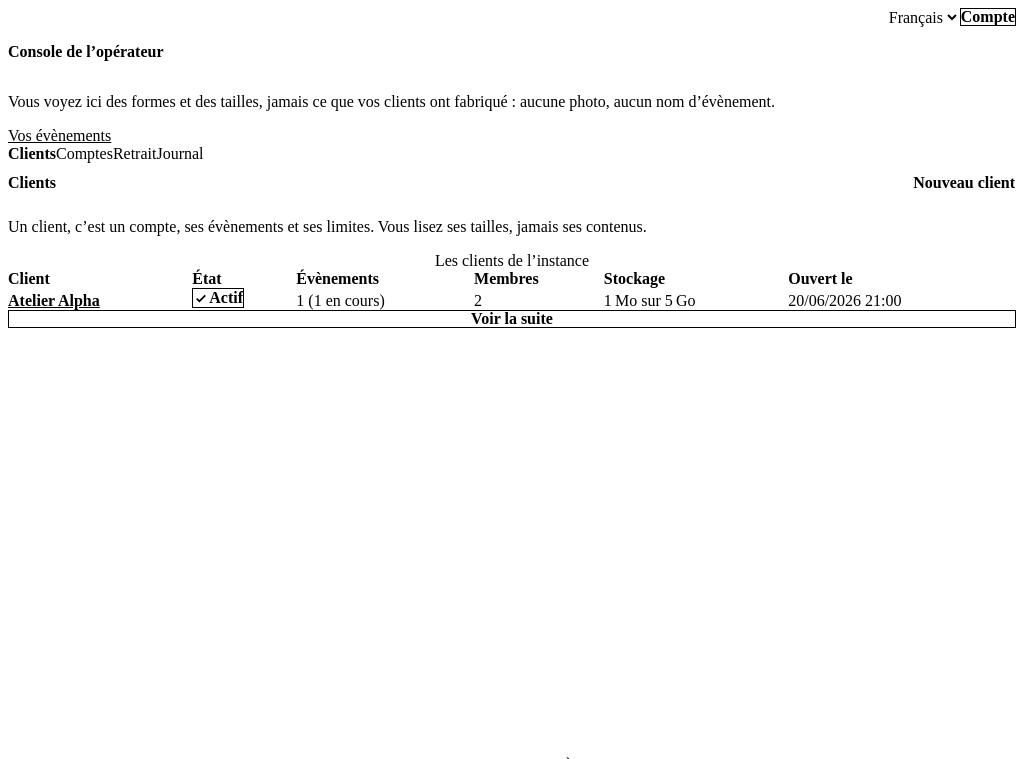
Scenario: the console’s clients › reads the next page with the cursor the server gave, and keeps the rows already read
Click the button "Voir la suite". click: {"x": 512, "y": 319}
box: [8,310,1016,328]
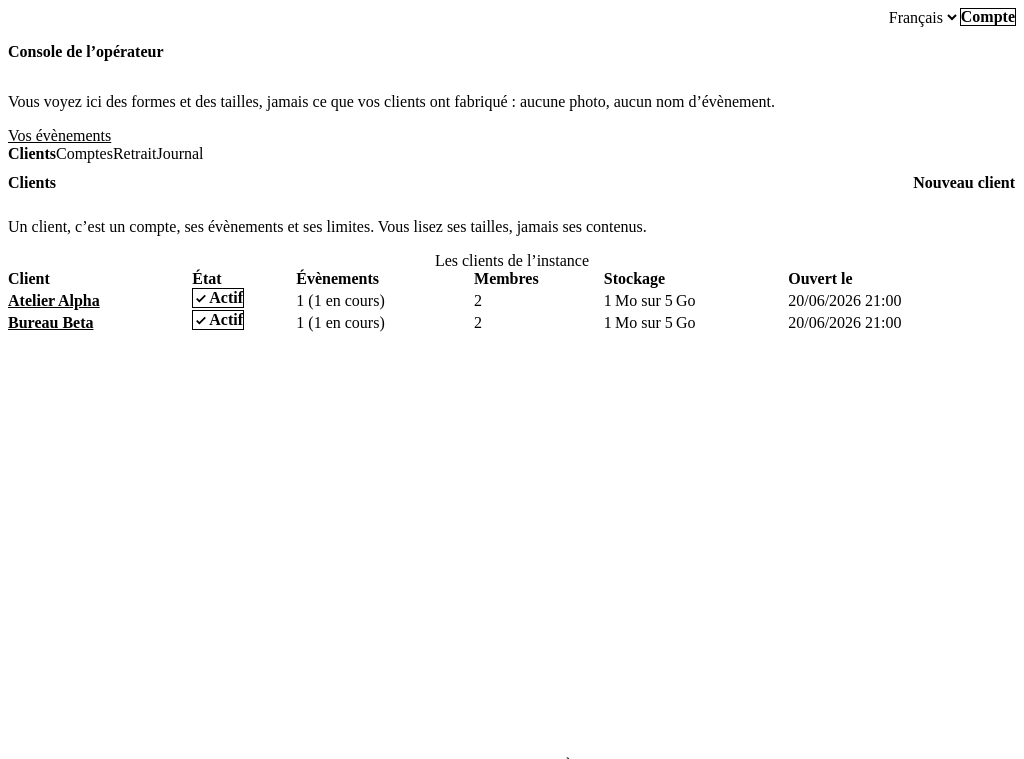
Expected: the link "Atelier Alpha" is shown, [8,292,100,309]
Now the link "Bureau Beta" is shown, box [8,314,94,331]
Now the button "Voir la suite" is gone
